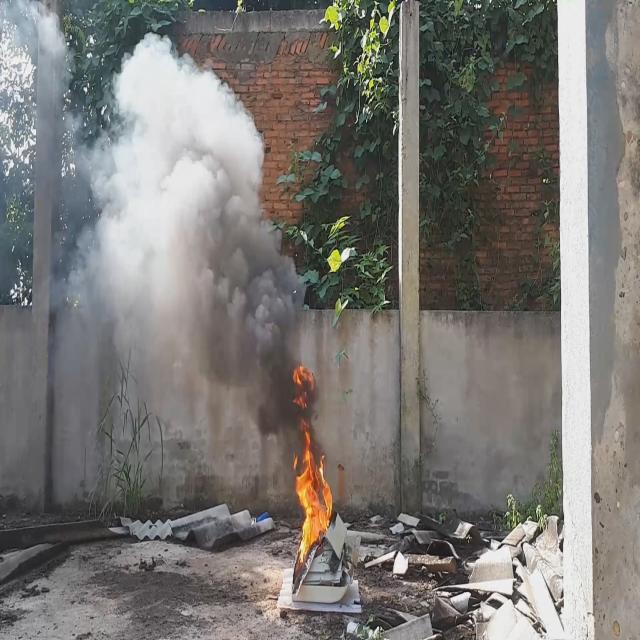Fire: (291, 363, 335, 579)
Smoke: (62, 30, 320, 454)
